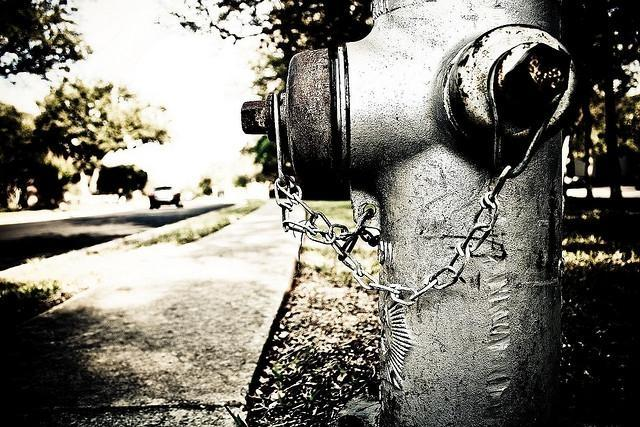car: (148, 186, 182, 208)
